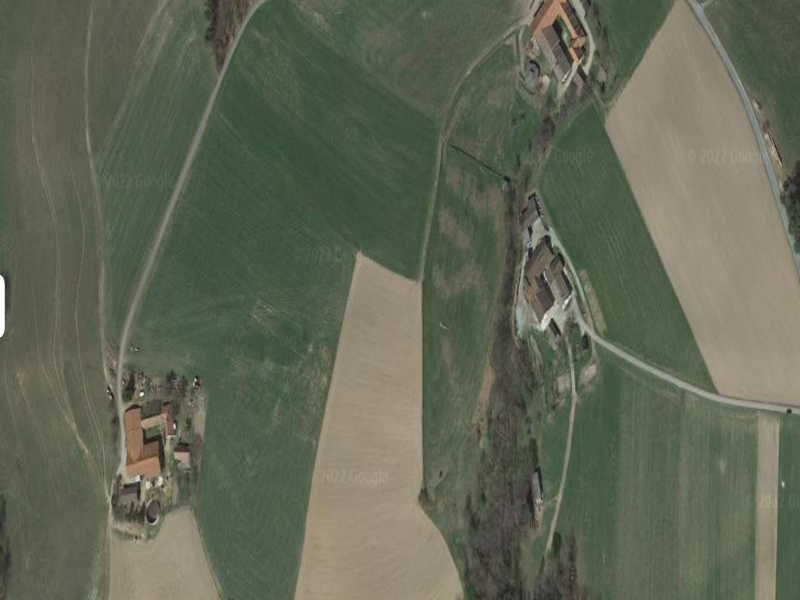field: (213, 0, 441, 279)
